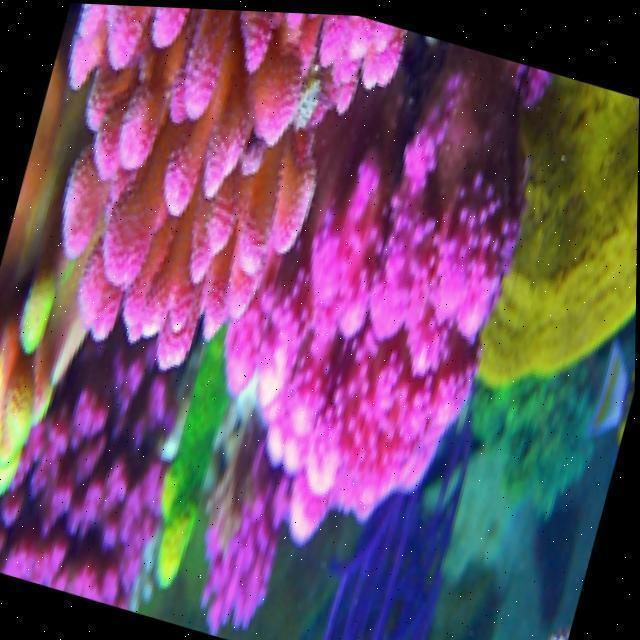Healthy Coral: (194, 44, 571, 586), (74, 0, 387, 318), (1, 348, 153, 599)
